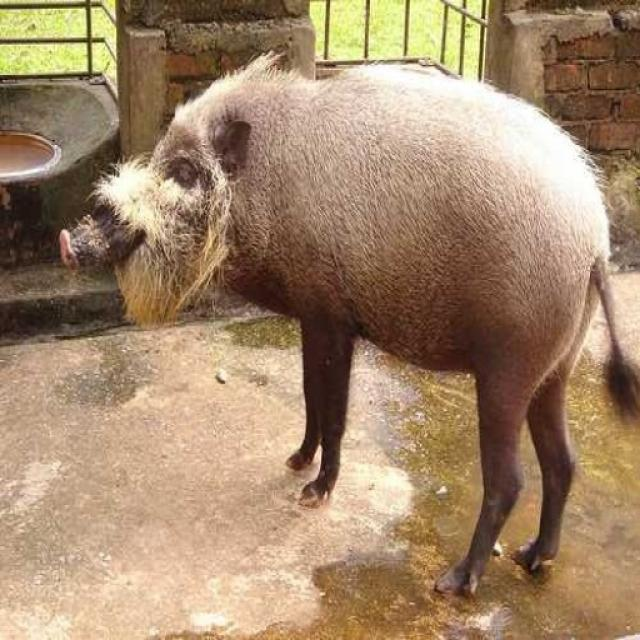pig: (44, 52, 640, 584)
